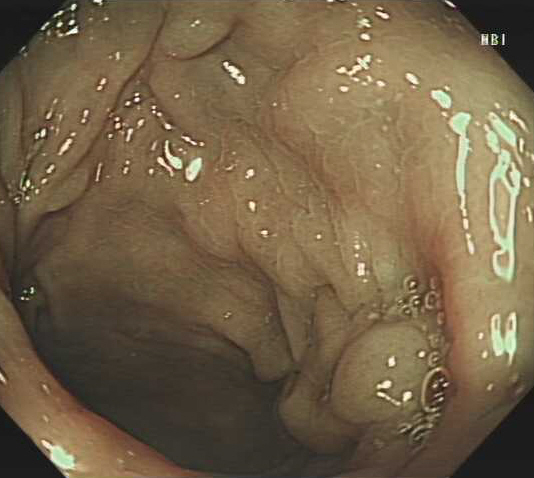others: (328, 319, 428, 425)
